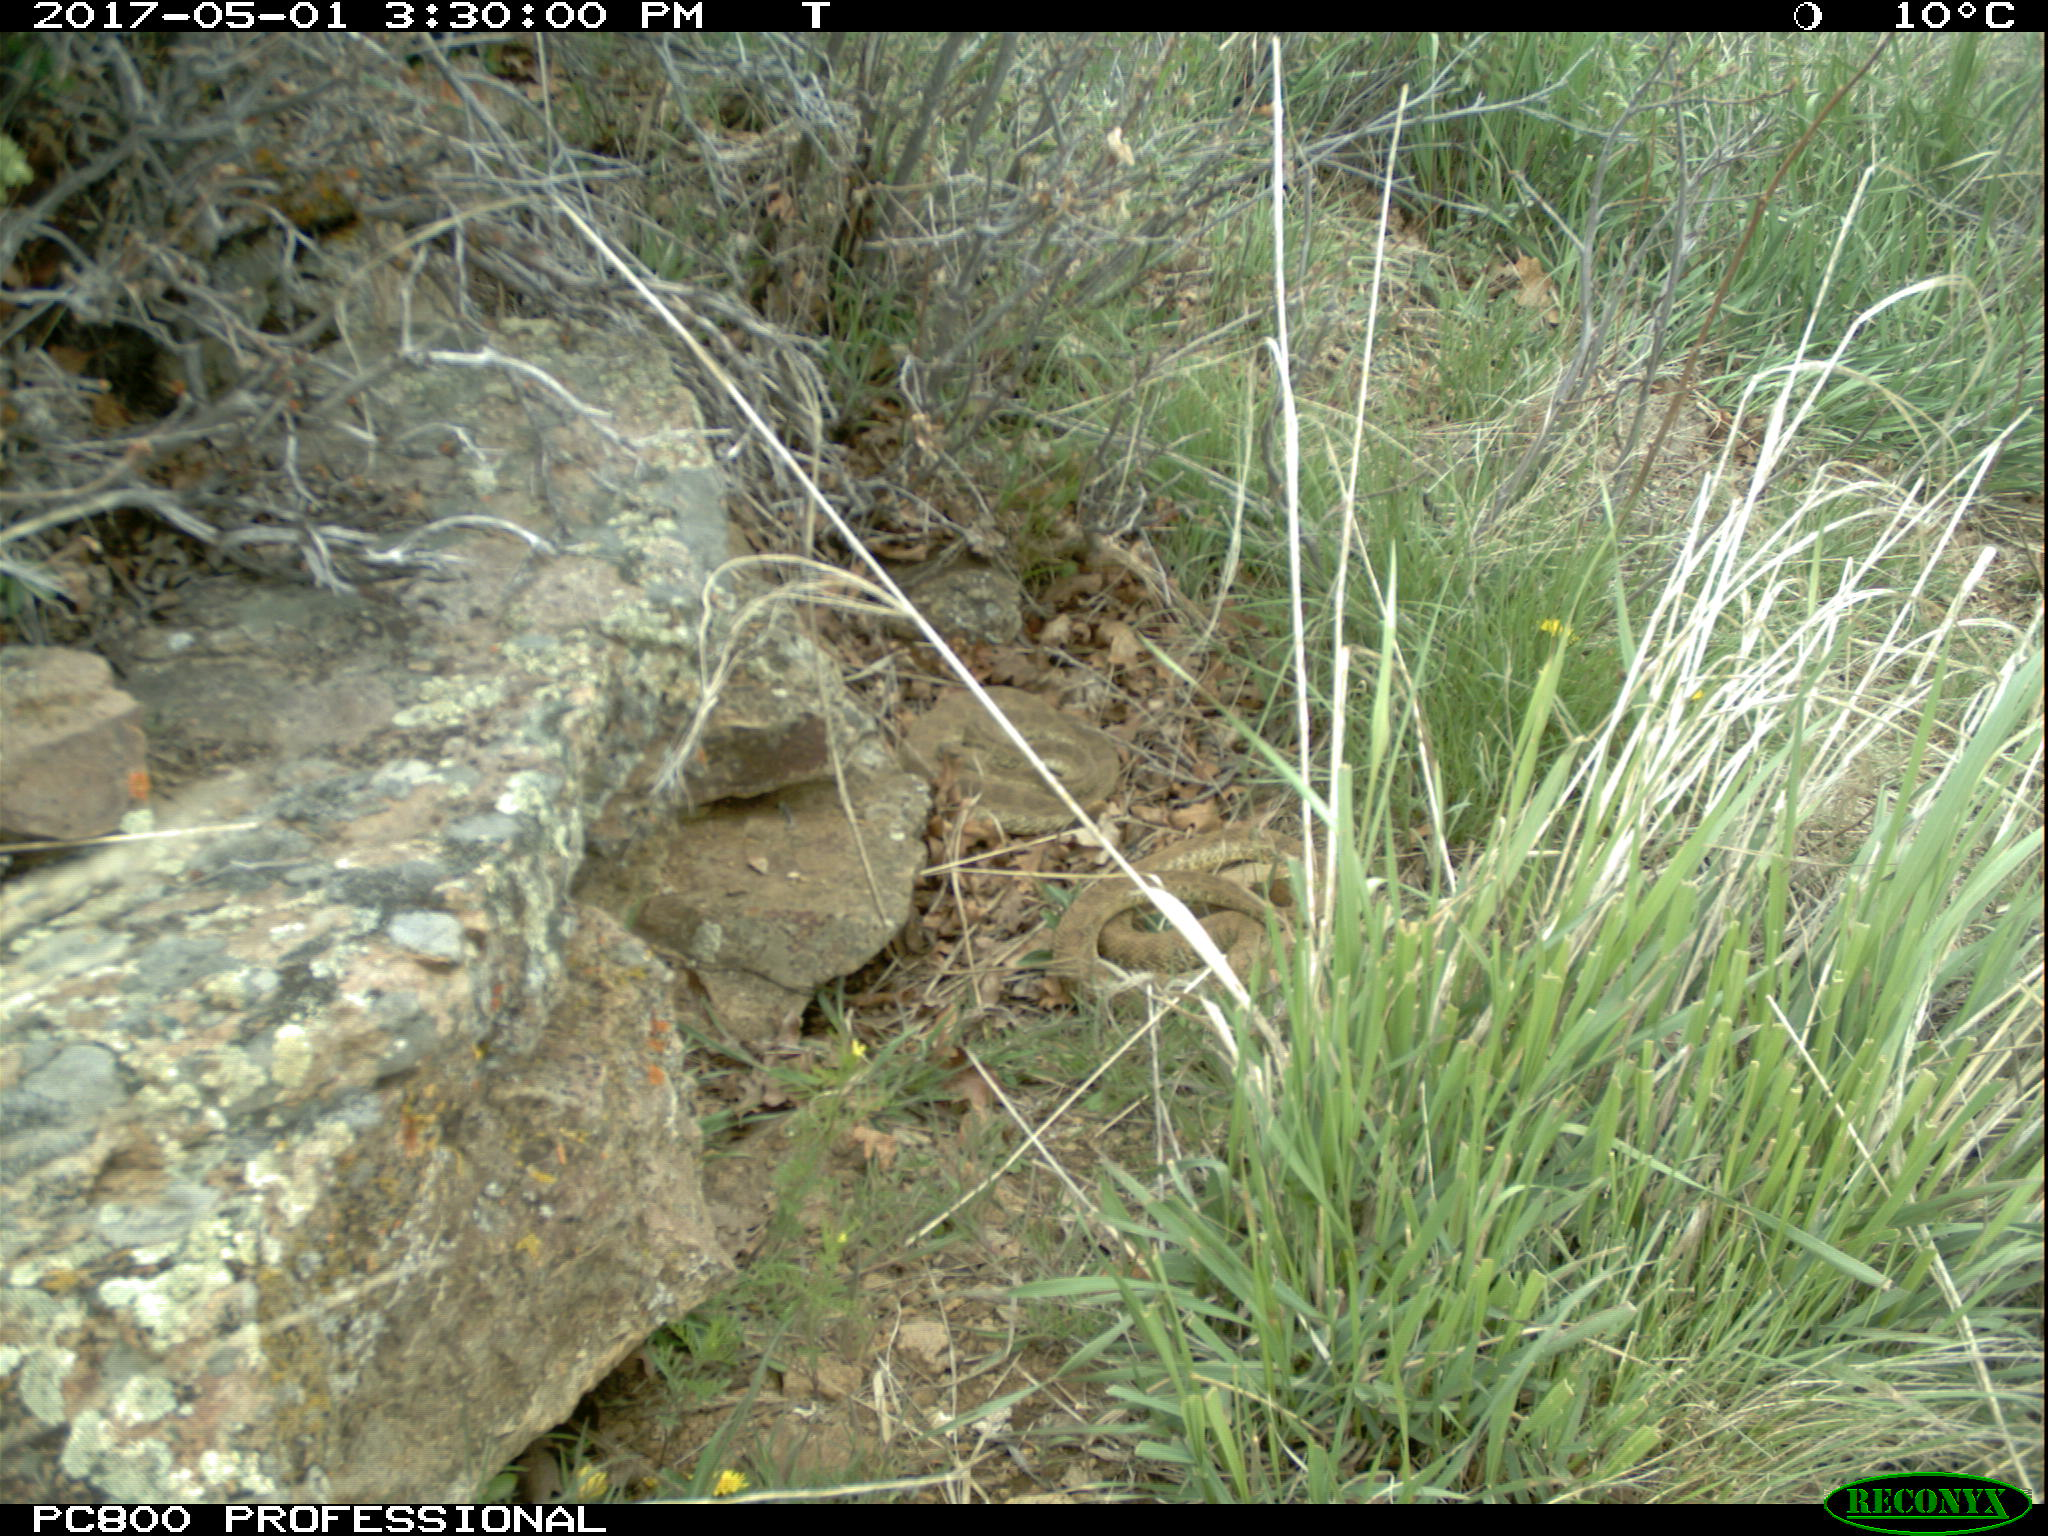snake: (1043, 823, 1321, 1004), (901, 689, 1143, 834)
